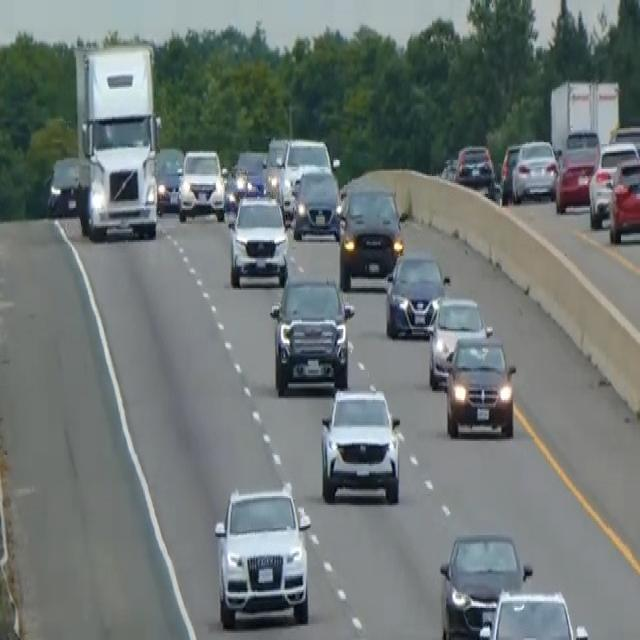car: (213, 482, 312, 628), (269, 272, 354, 395), (438, 530, 531, 638), (319, 384, 401, 503), (444, 327, 516, 439), (337, 182, 404, 286), (427, 294, 490, 389), (228, 192, 289, 288), (384, 249, 448, 338), (478, 587, 588, 638), (588, 138, 639, 228), (278, 135, 332, 219), (291, 164, 341, 242), (555, 128, 600, 212), (177, 146, 225, 222), (511, 137, 558, 203), (608, 156, 639, 244), (454, 142, 495, 198), (46, 153, 80, 217), (154, 144, 183, 212), (233, 150, 266, 198), (263, 135, 288, 196), (499, 141, 521, 199), (610, 122, 639, 164)
lorry: (72, 39, 162, 242)
